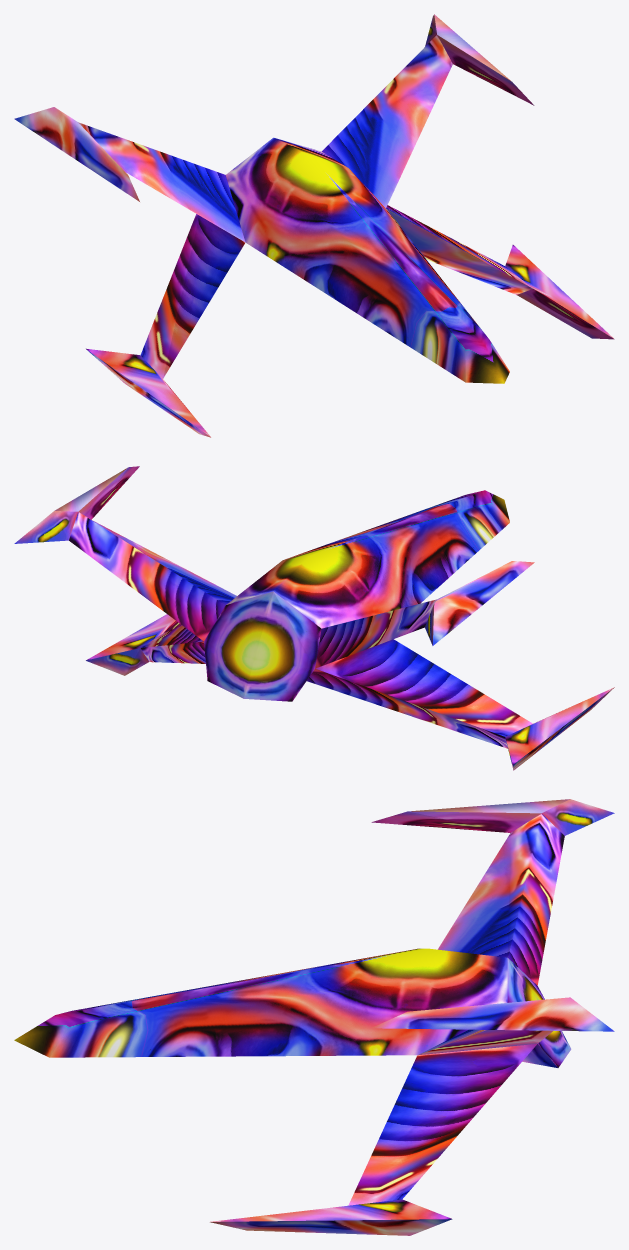
File: ship-09.fbx
3 renders of one model, top to bottom at view 1: azimuth 30°, elevation 25°; view 2: azimuth 150°, elevation 25°; view 3: azimuth 270°, elevation 25°, orthographic. The views are drawn at different scales.
Visible parts, largest first — view 1: ship-09; view 2: ship-09; view 3: ship-09.
Boxes of the visible parts, x1=… form: ship-09: x1=14, y1=14, x2=614, y2=437; ship-09: x1=14, y1=466, x2=614, y2=770; ship-09: x1=14, y1=799, x2=614, y2=1235.
Size of the model in its own units: 88.89 by 43.91 by 101.
